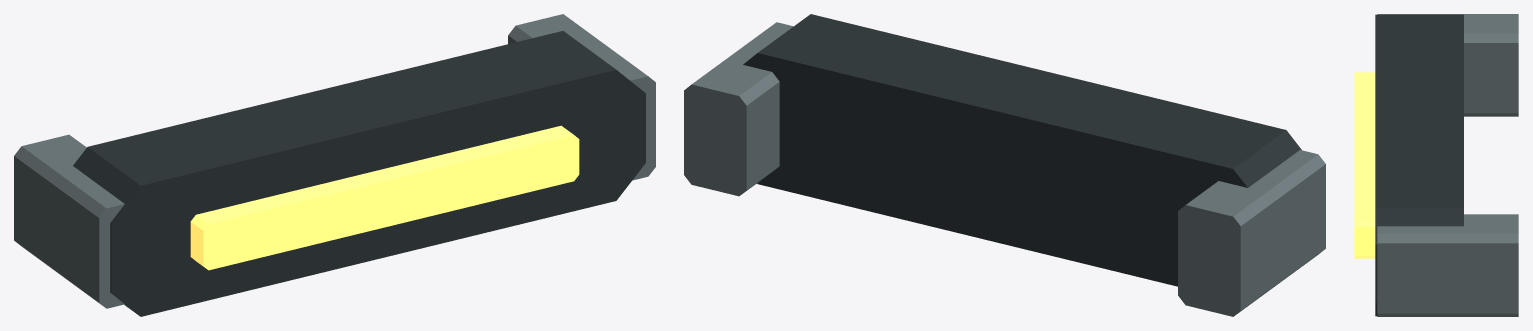
The model's file is capacitor_visor.glb.
3 renders of one model, left to right at view 1: azimuth 30°, elevation 25°; view 2: azimuth 150°, elevation 25°; view 3: azimuth 270°, elevation 25°, orthographic. The views are drawn at different scales.
Visible parts, largest first — view 1: capacitor_visor; view 2: capacitor_visor; view 3: capacitor_visor.
Boxes of the visible parts, x1,y1,x2,y2 form: capacitor_visor: [14, 14, 655, 316]; capacitor_visor: [684, 14, 1325, 316]; capacitor_visor: [1354, 14, 1518, 316].
Bounding box in the file's own units: 0.151 × 0.034 × 0.0465.
